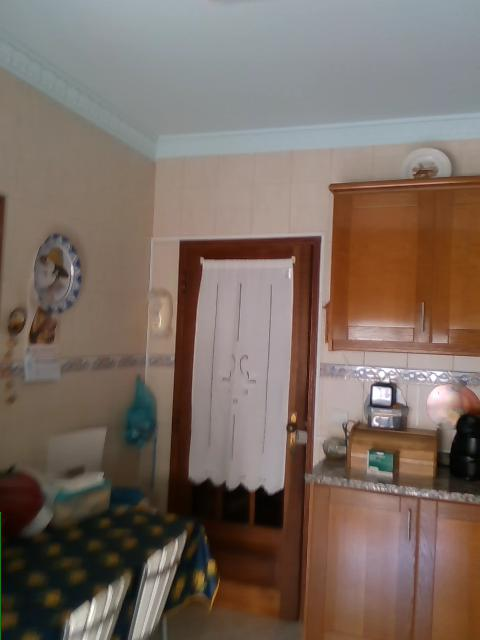door: (170, 236, 320, 628)
